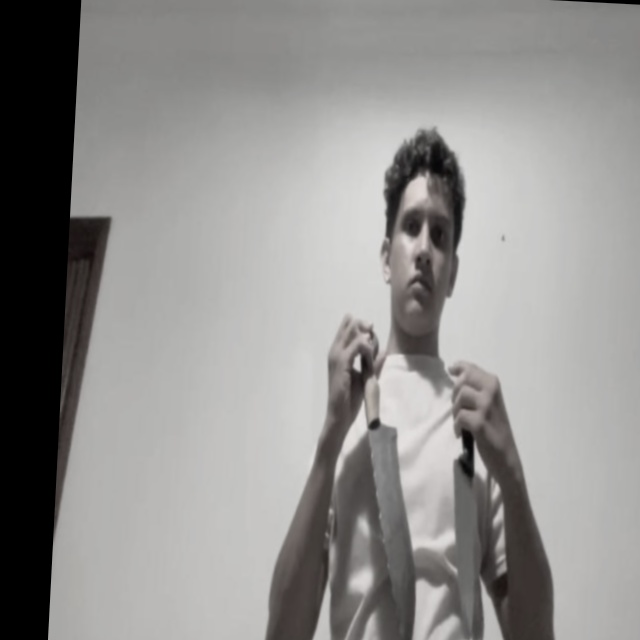Sharp-Object: (357, 420, 425, 640), (444, 462, 481, 636)
